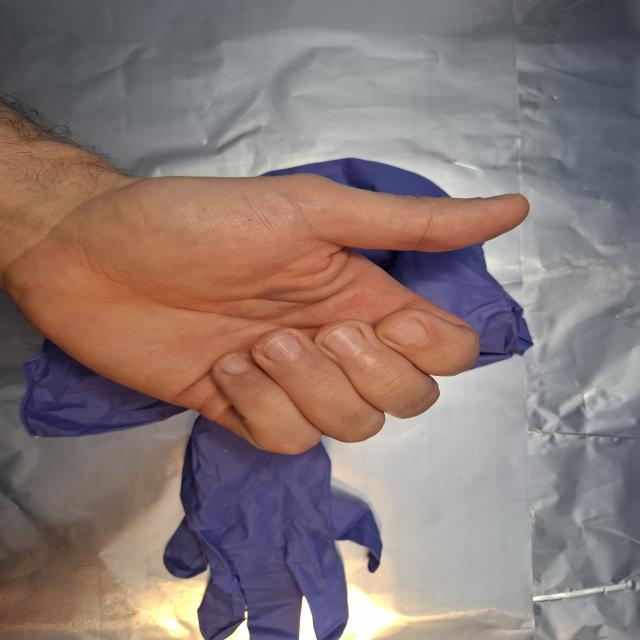glove_off: (3, 172, 533, 458)
